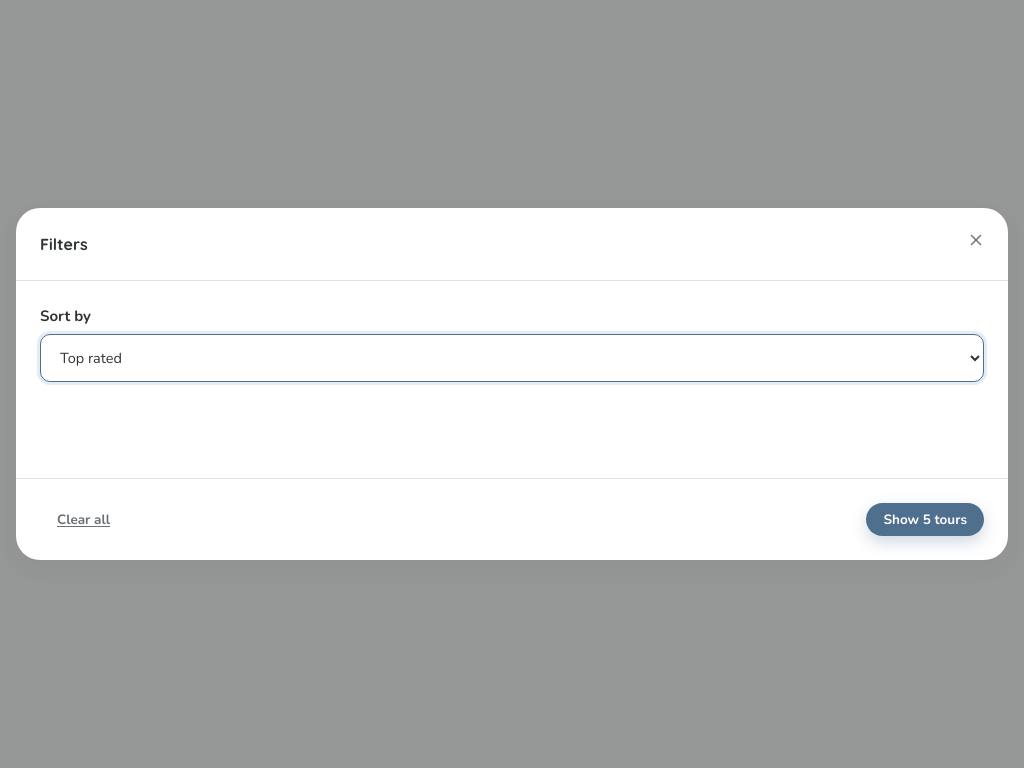
Test: TourFiltersModal › resets the draft to Recommended on Clear all without applying
Click the button "Clear all": click(84, 519) x1=40 y1=502 x2=127 y2=536
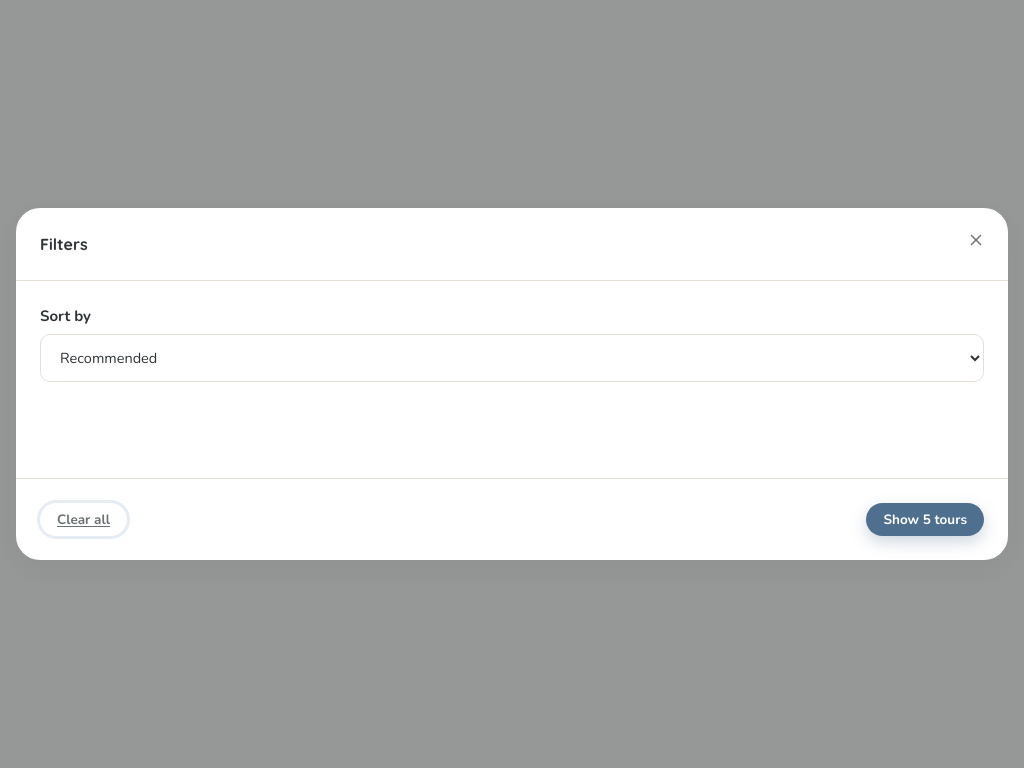
Expected: the dropdown labelled "Sort by" shows "Recommended", x1=40 y1=334 x2=984 y2=382
